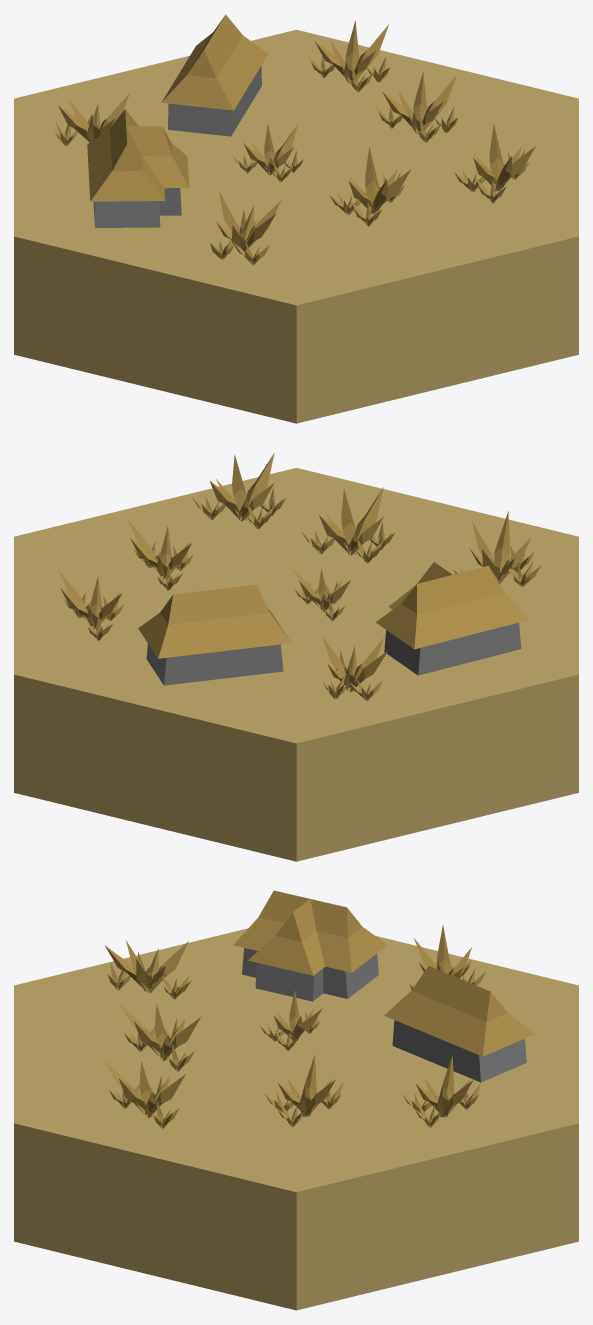
File: Casas_Arido_2.fbx
The picture shows the model from 3 angles, top to bottom: view 1: azimuth 30°, elevation 25°; view 2: azimuth 150°, elevation 25°; view 3: azimuth 270°, elevation 25°; orthographic projection.
Visible parts, largest first — view 1: Casas_Arido_2; view 2: Casas_Arido_2; view 3: Casas_Arido_2.
Boxes of the visible parts, x1,y1,x2,y2 form: Casas_Arido_2: [14, 14, 578, 423]; Casas_Arido_2: [14, 453, 578, 861]; Casas_Arido_2: [14, 890, 578, 1310].
Bounding box in the file's own units: 200 × 65.63 × 173.
